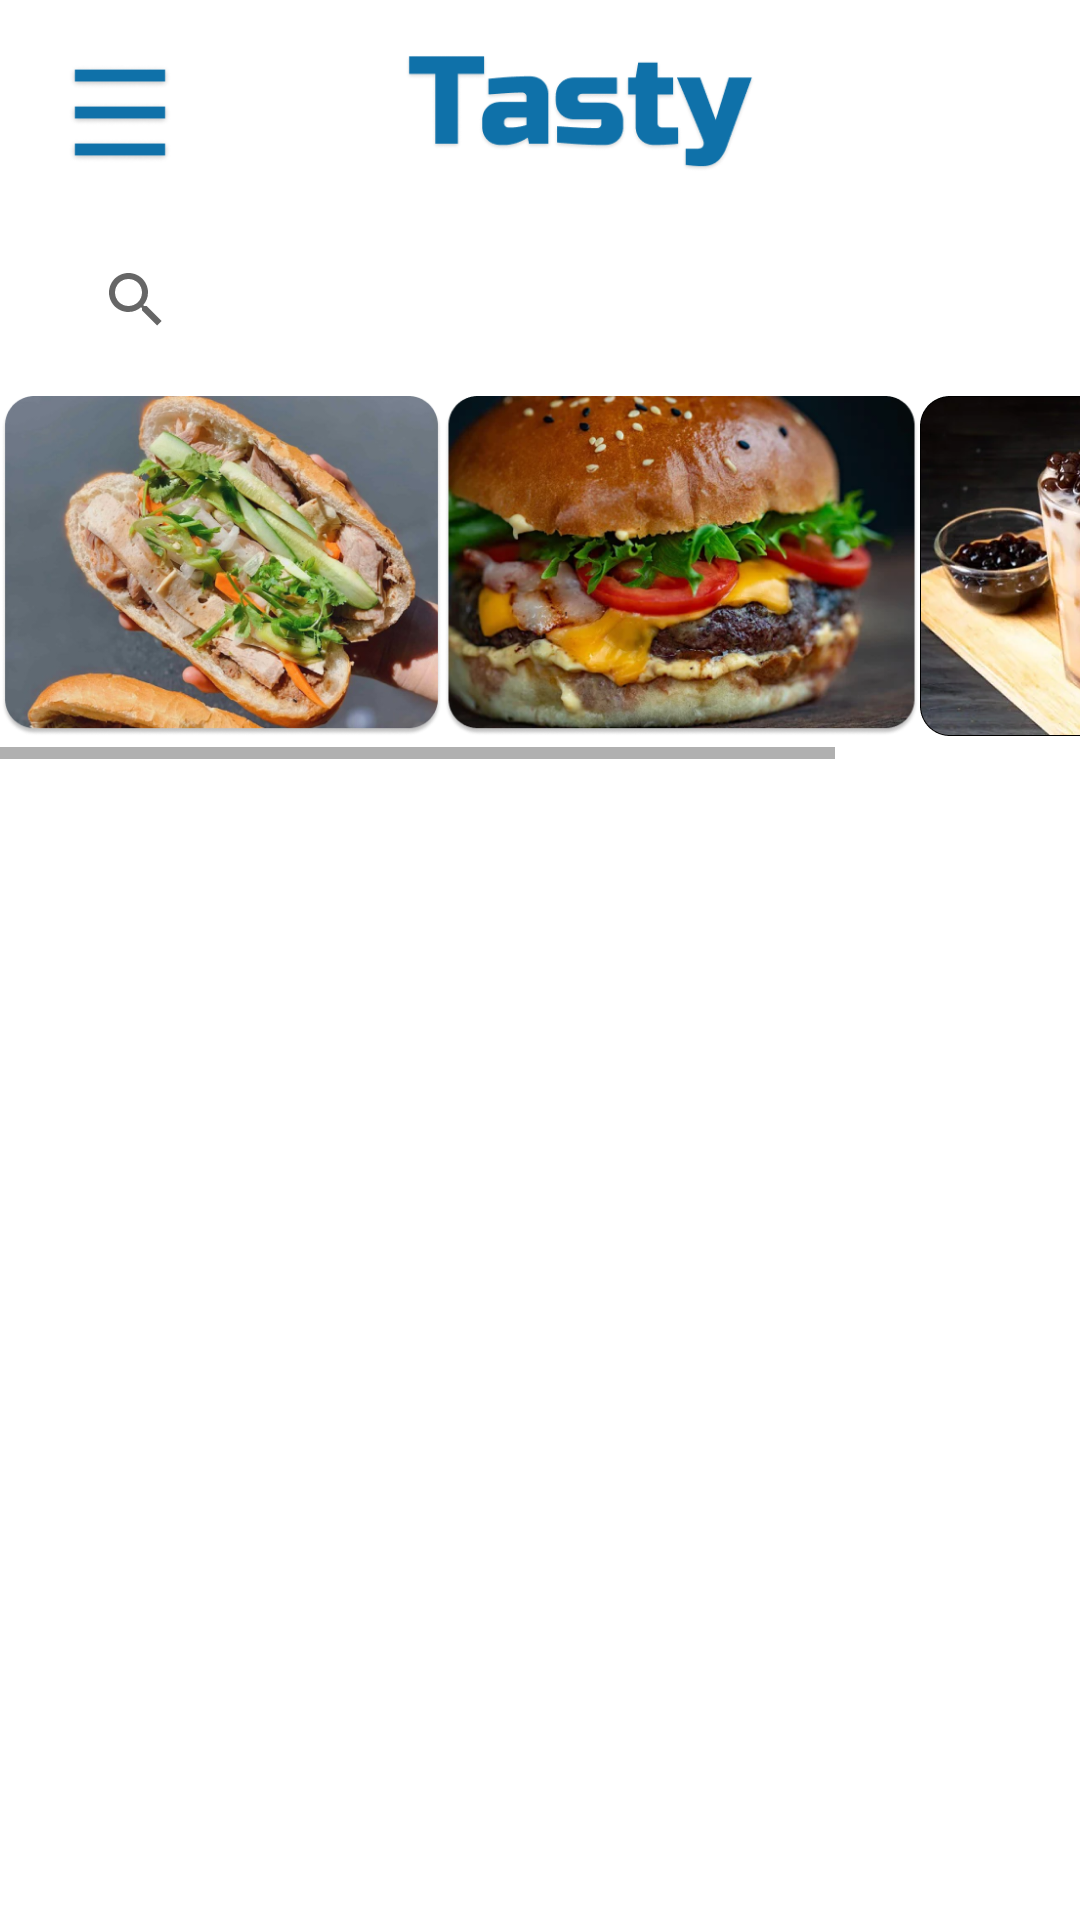

Icon click points for this 1080px×1920px phone screenshot, format (x=x, y=y):
menu: (x=120, y=113)
